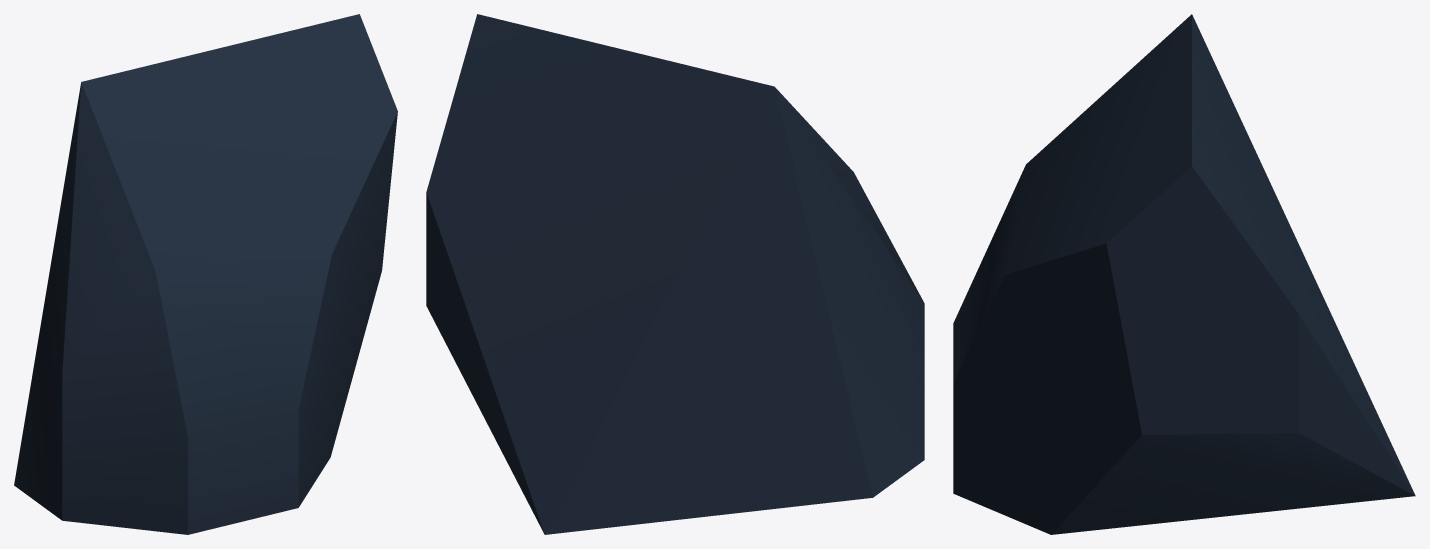
File: Power Stone Debris 01.FBX
3 views of the same model, side by side, from view 1: azimuth 30°, elevation 25°; view 2: azimuth 150°, elevation 25°; view 3: azimuth 270°, elevation 25° (orthographic). The views are drawn at different scales.
Parts seen in each view (by area): view 1: Power Stone Debris 01; view 2: Power Stone Debris 01; view 3: Power Stone Debris 01.
Part boxes in pixels (x1=…): Power Stone Debris 01: x1=14, y1=14, x2=397, y2=534; Power Stone Debris 01: x1=426, y1=14, x2=924, y2=534; Power Stone Debris 01: x1=953, y1=14, x2=1415, y2=534.
Size of the model in its own units: 31.48 by 31.48 by 31.48.
Materials: 1 (1 with a texture image).
